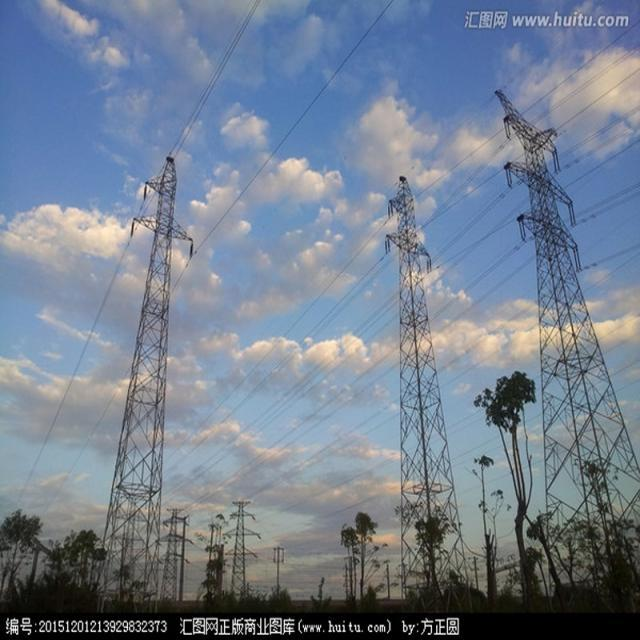non-critical vegetation: (486, 79, 626, 590), (388, 187, 484, 589), (119, 155, 174, 606), (230, 488, 253, 614)
